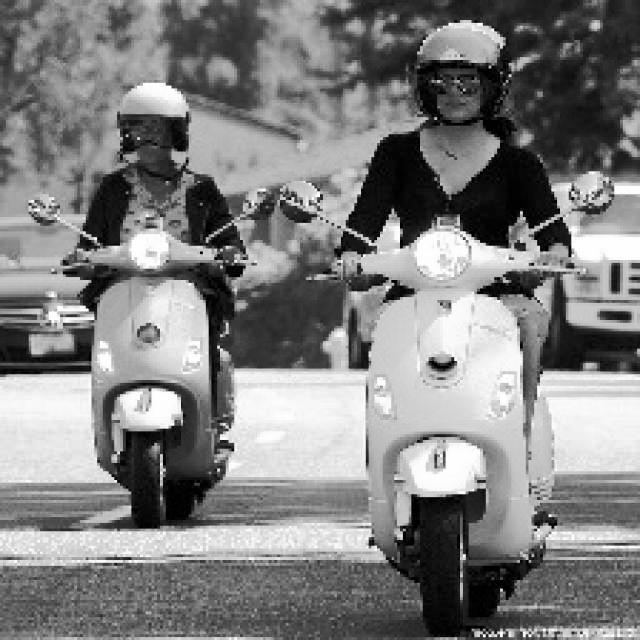Bike: (349, 234, 571, 640), (49, 234, 249, 524)
